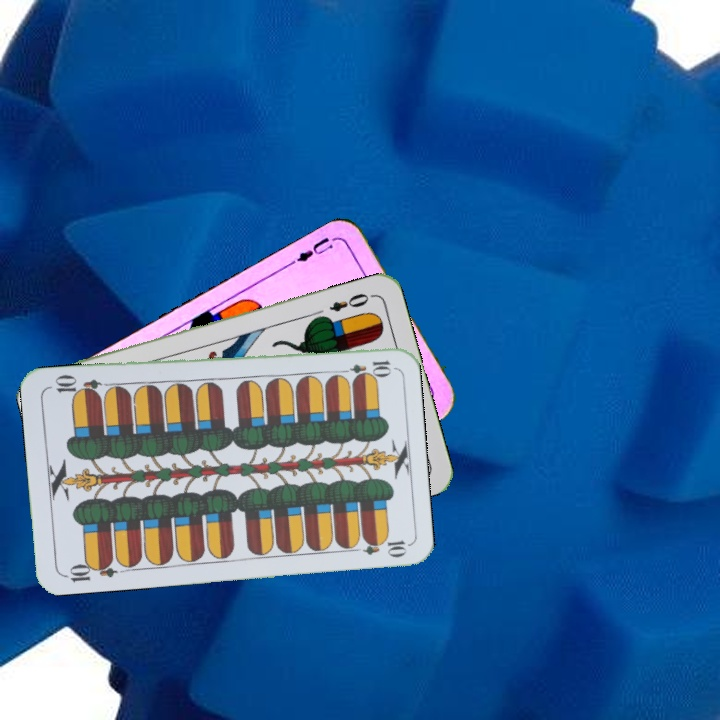E10: (60, 555, 119, 585), (335, 356, 394, 378)
EO: (325, 289, 376, 314)
EU: (289, 232, 336, 266)
